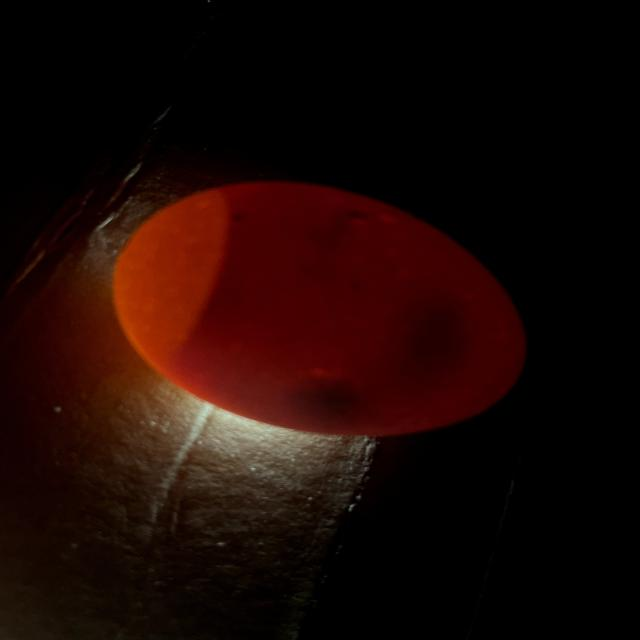fertile: (113, 183, 525, 435)
